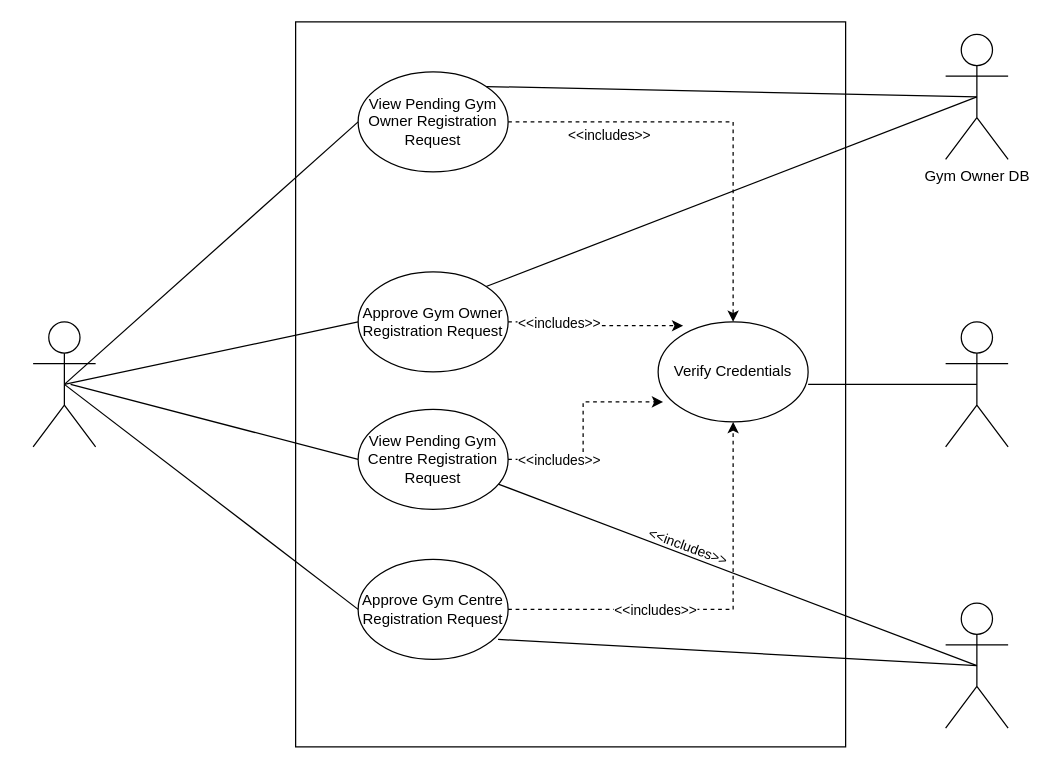
The diagram is 1051 pixels wide and 776 high, and some of its shapes have lost their labels. Each missing label, with the centre of its shape:
Flipfit Admin: point 64,384
Gym Centre DB: point 976,665
User DB: point 976,384
